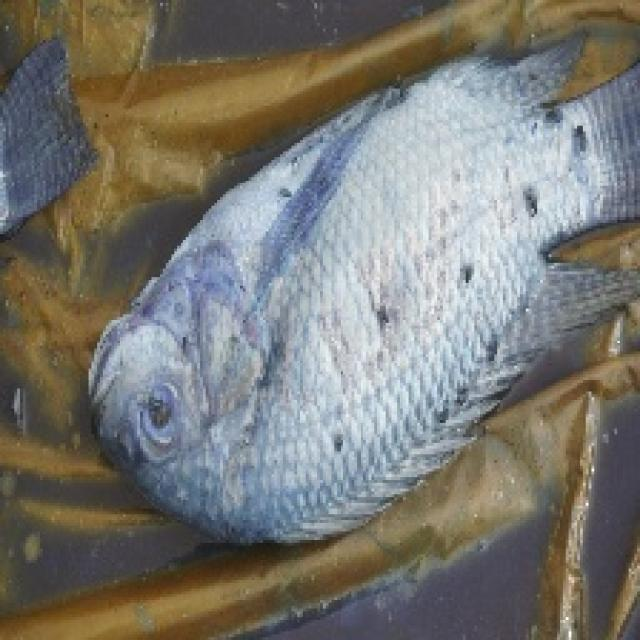Non-Fresh: (85, 166, 602, 552)
